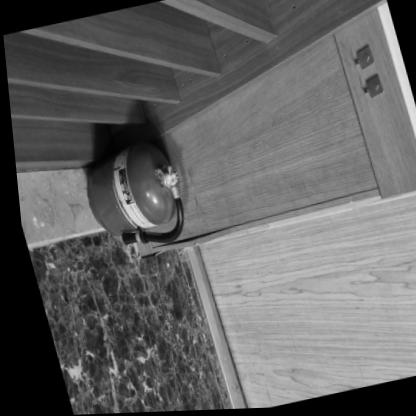FE: (72, 139, 188, 254)
